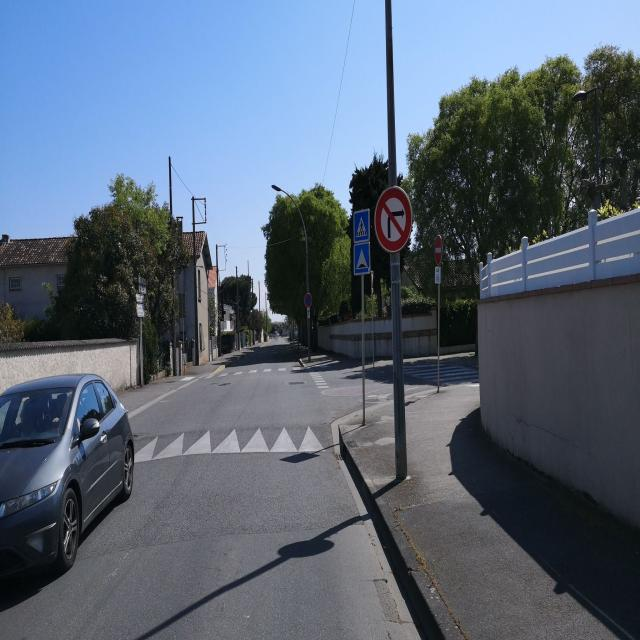forb_stopping: (304, 293, 312, 307)
